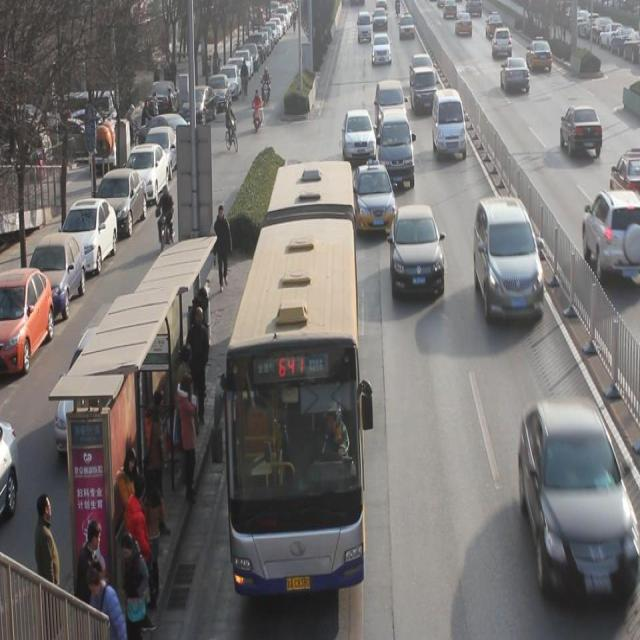car: (518, 398, 640, 606), (473, 195, 544, 323), (582, 188, 640, 278), (393, 203, 444, 301), (352, 162, 397, 236), (560, 104, 602, 158), (341, 110, 376, 161), (610, 147, 640, 201), (375, 79, 407, 127), (411, 68, 438, 114), (500, 55, 530, 96), (527, 34, 553, 73), (411, 53, 434, 82), (492, 28, 512, 60), (372, 34, 392, 66)
truck: (380, 106, 415, 186), (432, 87, 466, 160)
van: (224, 156, 364, 584)
